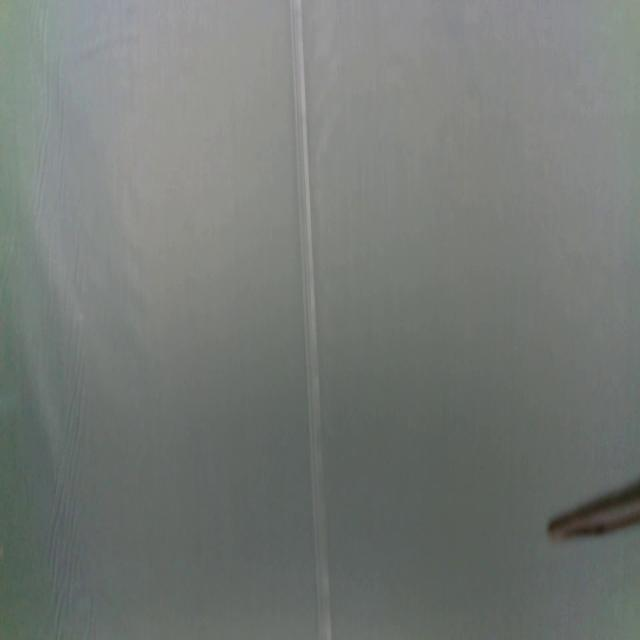crease: (289, 0, 332, 640)
